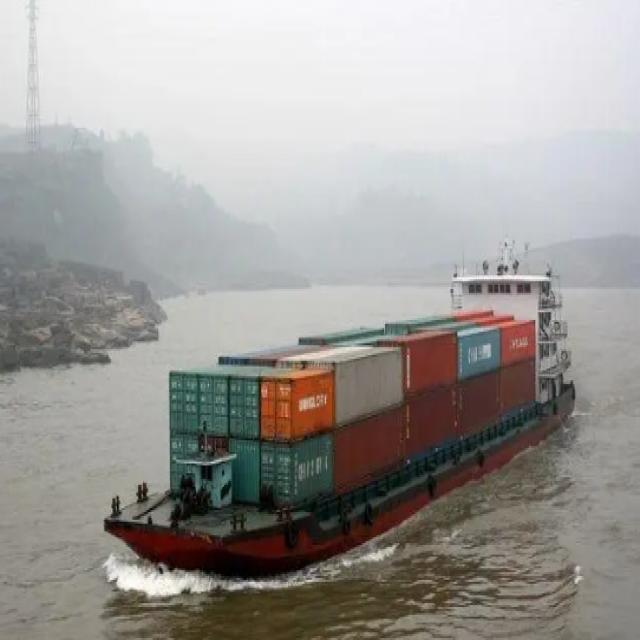cargoship: (103, 232, 582, 579)
